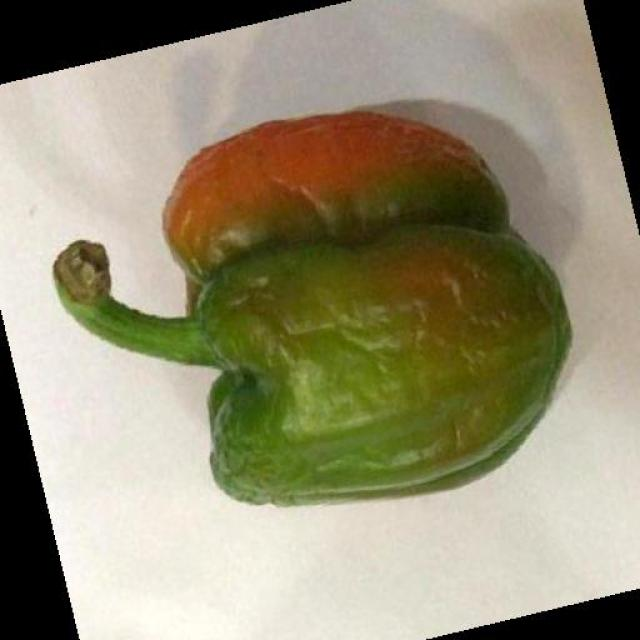Stale_Capsicum: (118, 74, 577, 494)
